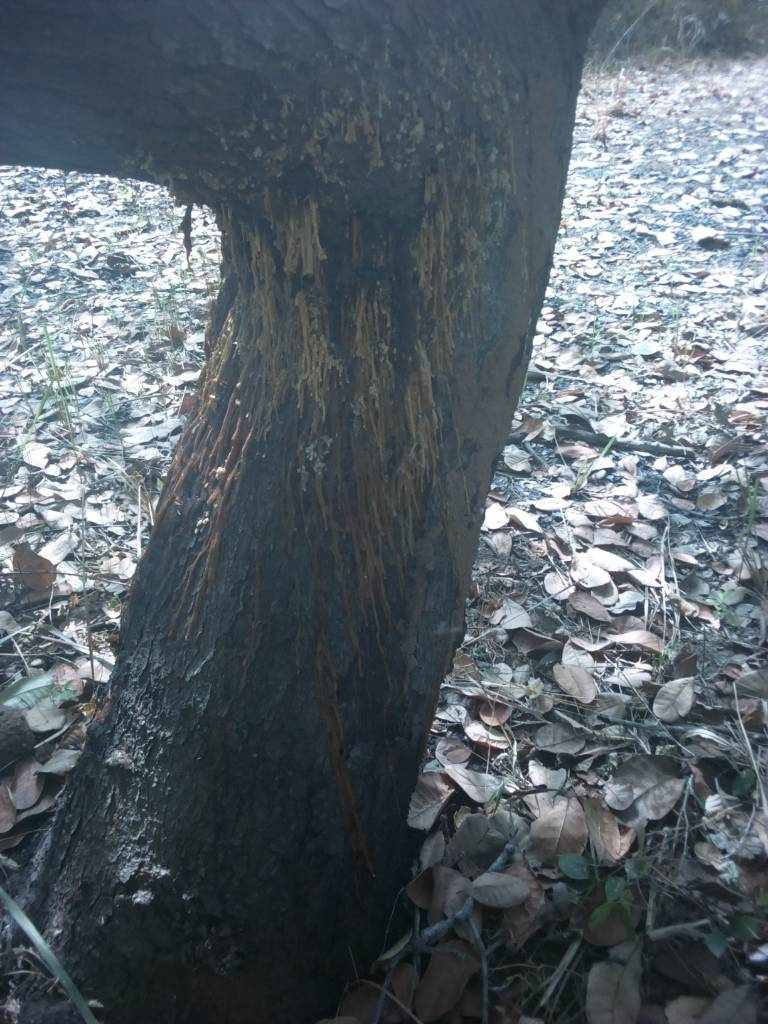Gommose: (93, 44, 532, 967)
